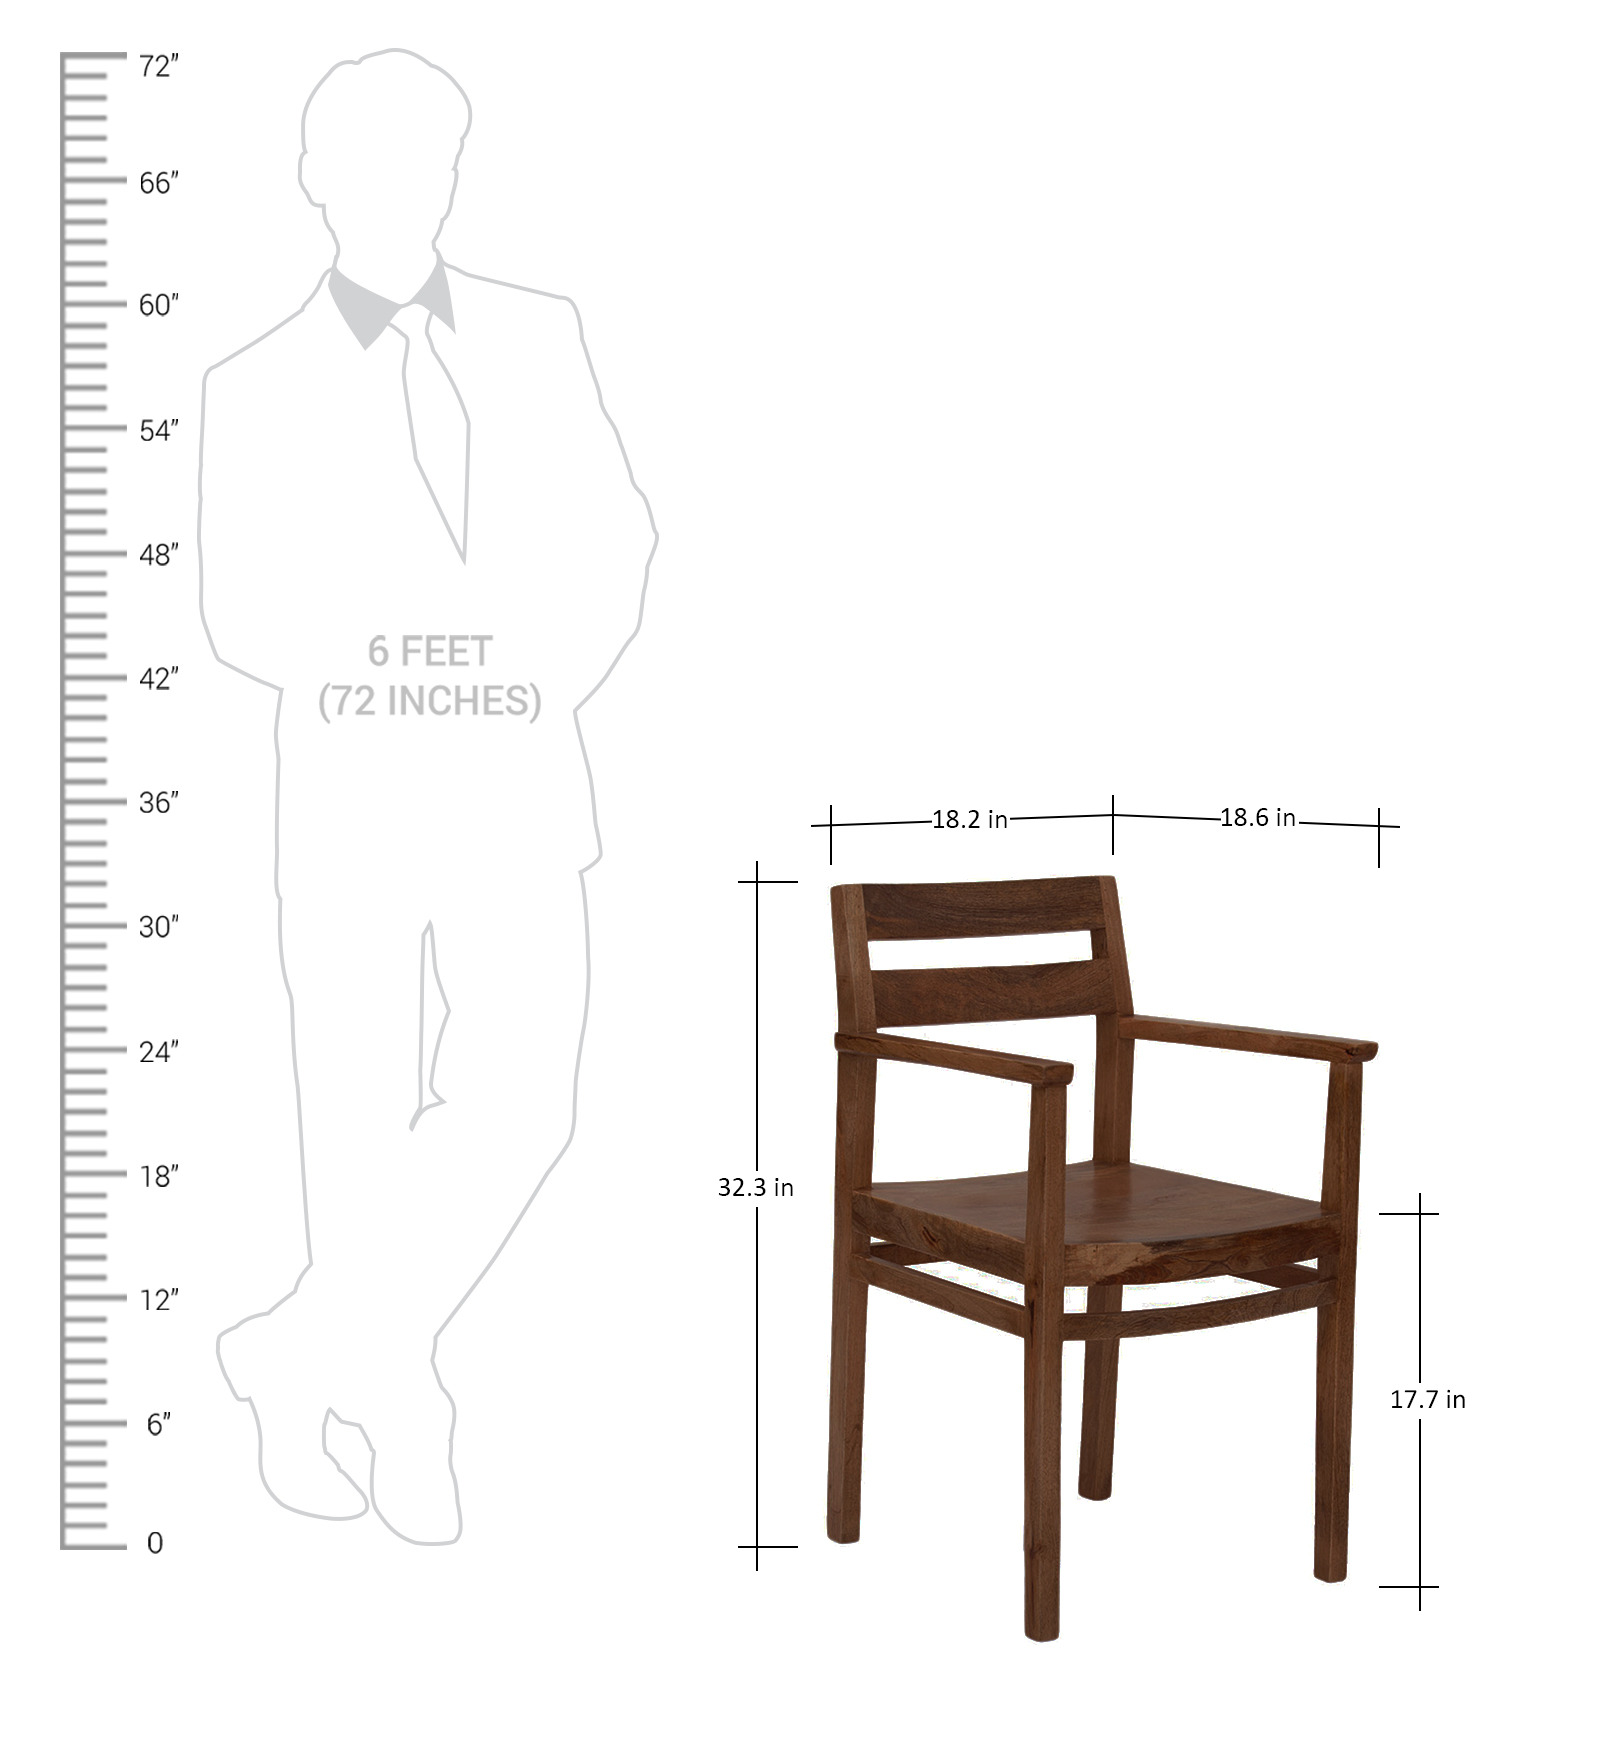Barcelona Solid Wood Arm Chair in Provincial Teak Finish by TheArmchair: (795, 859, 1387, 1639)
